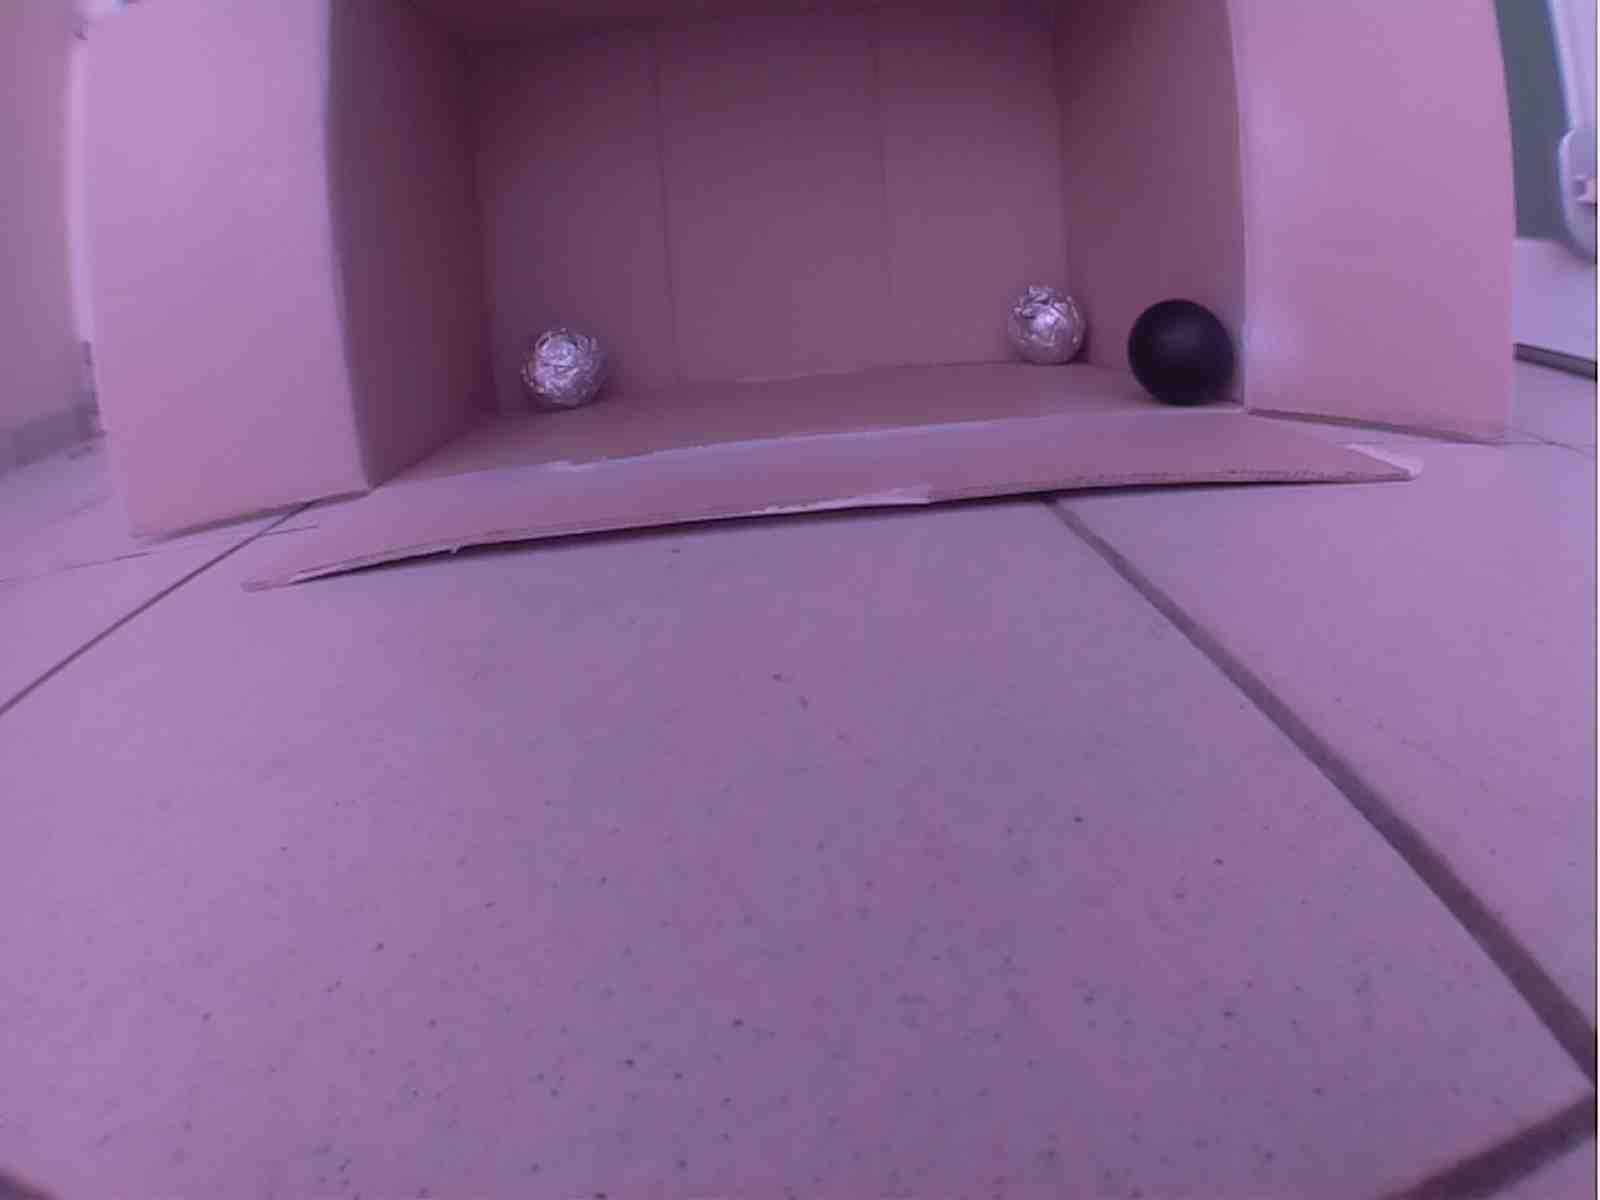bianca: (522, 323, 603, 408), (1007, 285, 1086, 362)
nera: (1126, 291, 1240, 408)
